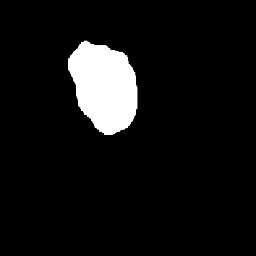mass: (74, 45, 133, 131)
